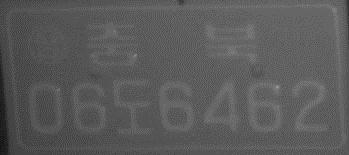0: (27, 79, 65, 136)
2: (290, 78, 329, 133)
4: (202, 78, 240, 133)
6: (157, 80, 198, 134), (244, 80, 284, 134), (71, 81, 107, 134)
도: (111, 77, 154, 136)
영: (28, 24, 66, 63)
충북_D: (86, 18, 258, 71)
